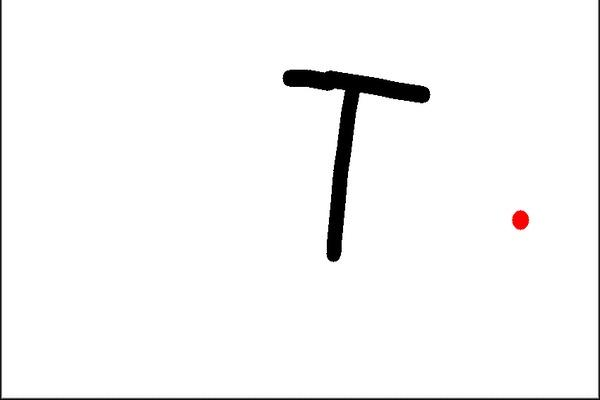T: (280, 61, 432, 265)
